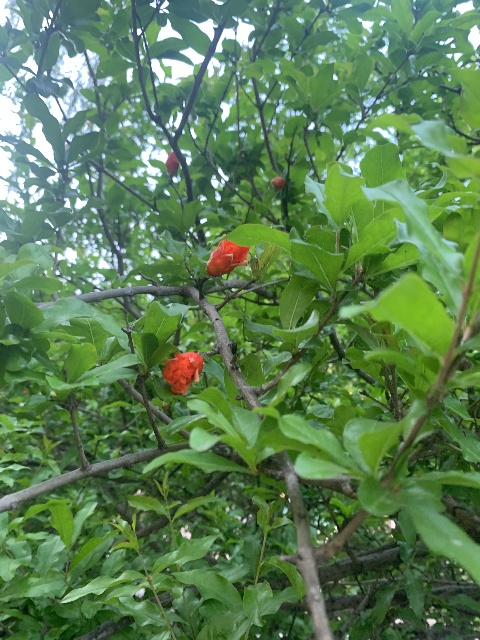bud: (165, 152, 179, 175), (270, 177, 285, 189)
flower: (206, 233, 250, 276), (161, 350, 203, 393)
